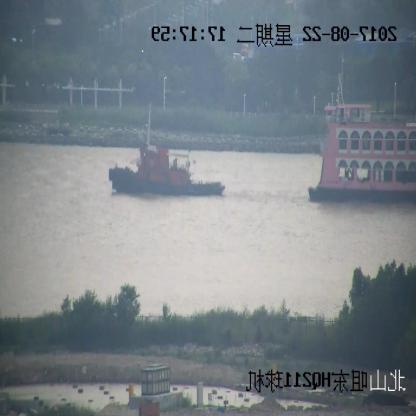Fishing Boat: (108, 103, 224, 195)
